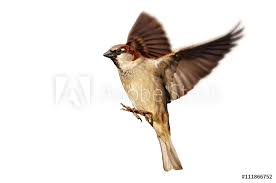hsparrow: (102, 9, 247, 172)
